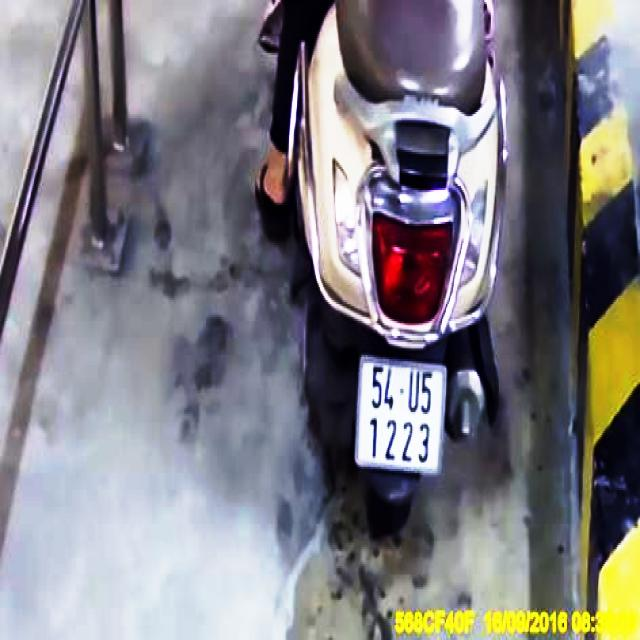license_plate: (358, 356, 444, 470)
